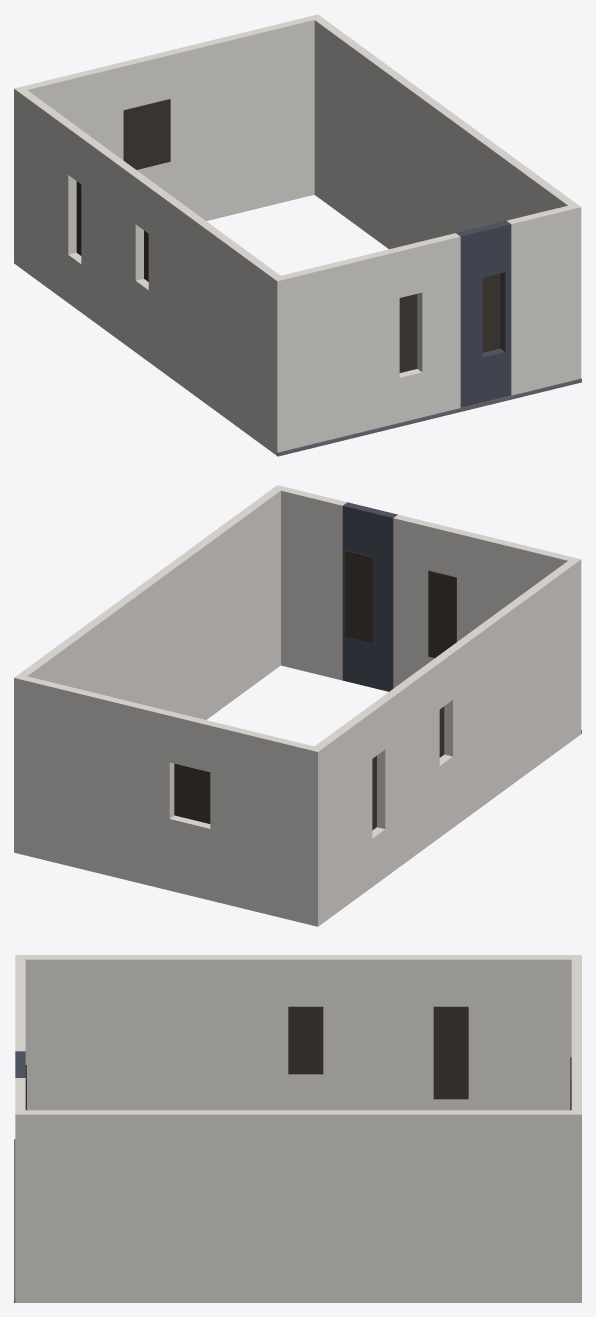
The model's file is SM_Floor_NarrowUpperScatterLowEndL_White_546_Back_01.gltf.
3 renders of one model, top to bottom at view 1: azimuth 30°, elevation 25°; view 2: azimuth 150°, elevation 25°; view 3: azimuth 270°, elevation 25°, orthographic. The views are drawn at different scales.
Parts seen in each view (by area): view 1: SM_Floor_NarrowUpperScatterLowEndL_White_546_Back_01; view 2: SM_Floor_NarrowUpperScatterLowEndL_White_546_Back_01; view 3: SM_Floor_NarrowUpperScatterLowEndL_White_546_Back_01.
Part boxes in pixels (<box>): SM_Floor_NarrowUpperScatterLowEndL_White_546_Back_01: <box>14,14,581,456</box>; SM_Floor_NarrowUpperScatterLowEndL_White_546_Back_01: <box>14,485,581,926</box>; SM_Floor_NarrowUpperScatterLowEndL_White_546_Back_01: <box>14,955,581,1302</box>.
Bounding box in the file's own units: 5.46 × 3 × 8.21.
1 material, 1 textured.
